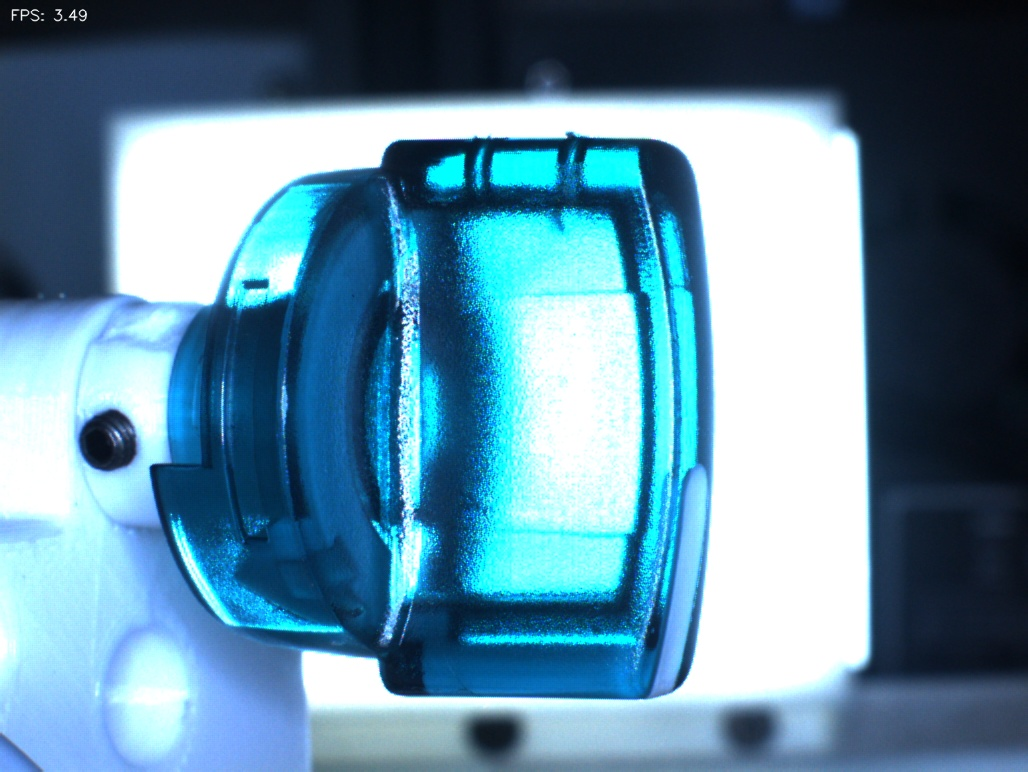Bulle: (438, 107, 524, 203)
